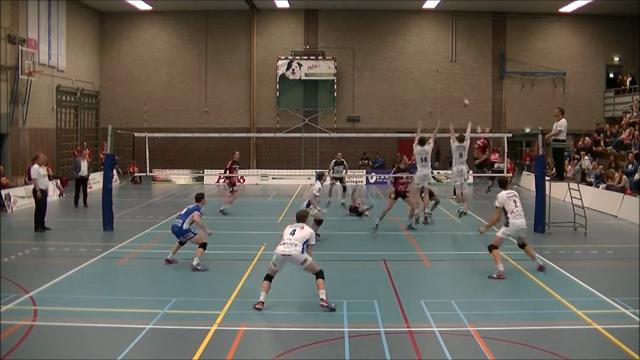Attack: (474, 121, 497, 194)
Block: (411, 115, 440, 228), (447, 116, 474, 222)
Player: (253, 209, 335, 311), (479, 177, 544, 278), (165, 193, 211, 270), (373, 155, 415, 232), (304, 171, 325, 239), (219, 151, 239, 214), (327, 153, 347, 206), (347, 185, 372, 216), (420, 188, 439, 224)
ball: (462, 100, 470, 107)
